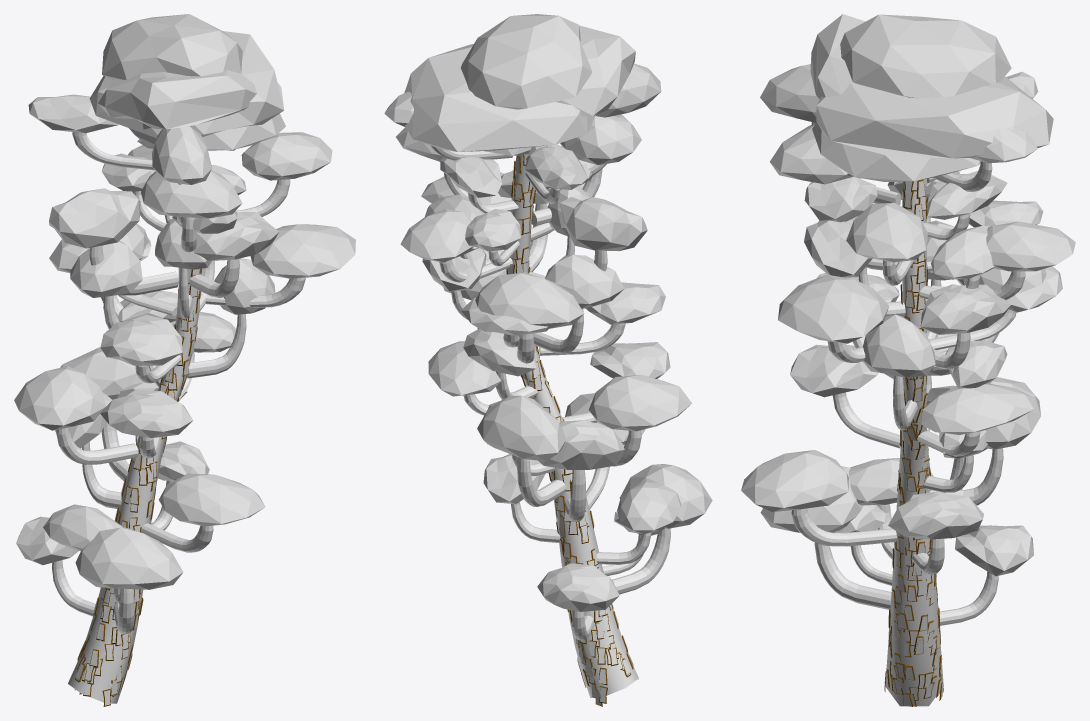
The model's file is Tree07.fbx.
The picture shows the model from 3 angles, left to right: view 1: azimuth 30°, elevation 25°; view 2: azimuth 150°, elevation 25°; view 3: azimuth 270°, elevation 25°; orthographic projection. The views are drawn at different scales.
Parts seen in each view (by area): view 1: Tree07; view 2: Tree07; view 3: Tree07.
Part boxes in pixels (<box>): Tree07: <box>14,14,355,706</box>; Tree07: <box>384,14,712,706</box>; Tree07: <box>741,14,1075,706</box>.
Size of the model in its own units: 761 by 1630 by 686.
